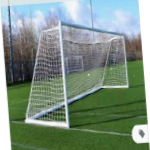goals: (24, 18, 134, 129)
